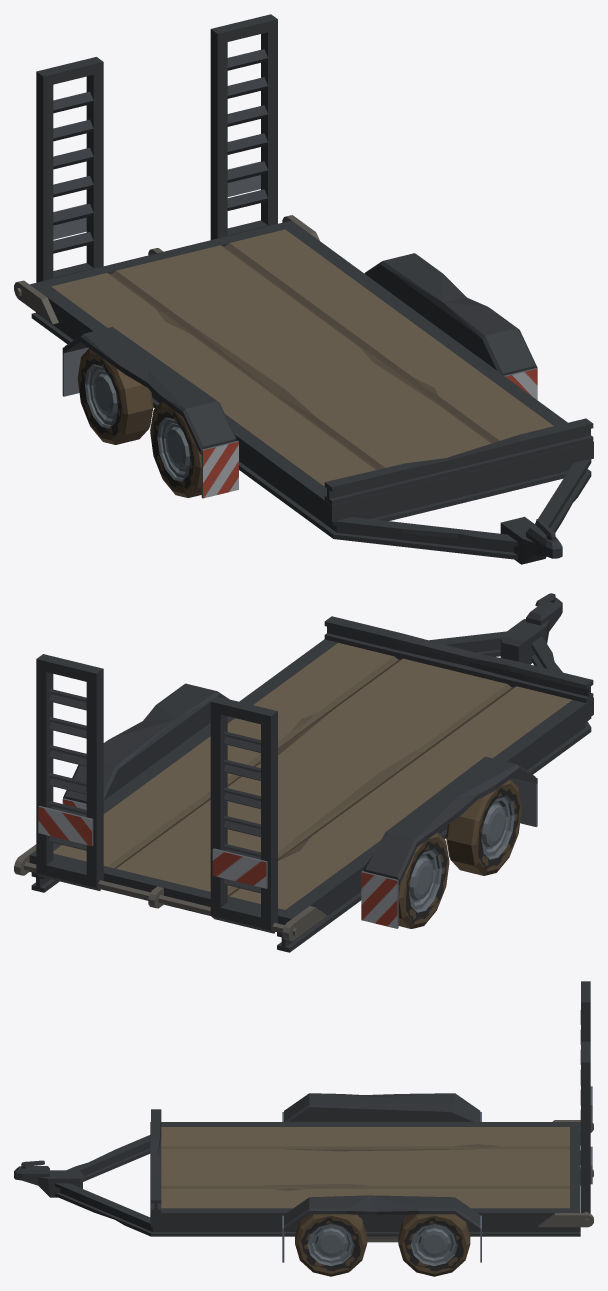
The model's file is SM_Veh_Trailer_01.fbx.
3 renders of one model, top to bottom at view 1: azimuth 30°, elevation 25°; view 2: azimuth 150°, elevation 25°; view 3: azimuth 270°, elevation 25°, orthographic. The views are drawn at different scales.
Visible parts, largest first — view 1: SM_Veh_Trailer_01, SM_Veh_Trailer_01_Wheel_rr, SM_Veh_Trailer_01_Wheel_fr; view 2: SM_Veh_Trailer_01, SM_Veh_Trailer_01_Wheel_fr, SM_Veh_Trailer_01_Wheel_rr; view 3: SM_Veh_Trailer_01, SM_Veh_Trailer_01_Wheel_fl, SM_Veh_Trailer_01_Wheel_rl.
Part boxes in pixels (box(x1,y1,x2,y2)): SM_Veh_Trailer_01: box(14, 14, 593, 564); SM_Veh_Trailer_01_Wheel_rr: box(77, 348, 153, 444); SM_Veh_Trailer_01_Wheel_fr: box(150, 401, 201, 497); SM_Veh_Trailer_01: box(14, 593, 593, 952); SM_Veh_Trailer_01_Wheel_fr: box(446, 779, 521, 875); SM_Veh_Trailer_01_Wheel_rr: box(398, 832, 449, 928); SM_Veh_Trailer_01: box(14, 981, 593, 1262); SM_Veh_Trailer_01_Wheel_fl: box(295, 1214, 367, 1276); SM_Veh_Trailer_01_Wheel_rl: box(398, 1214, 470, 1276).
Bounding box in the file's own units: 310 × 246 × 650.
